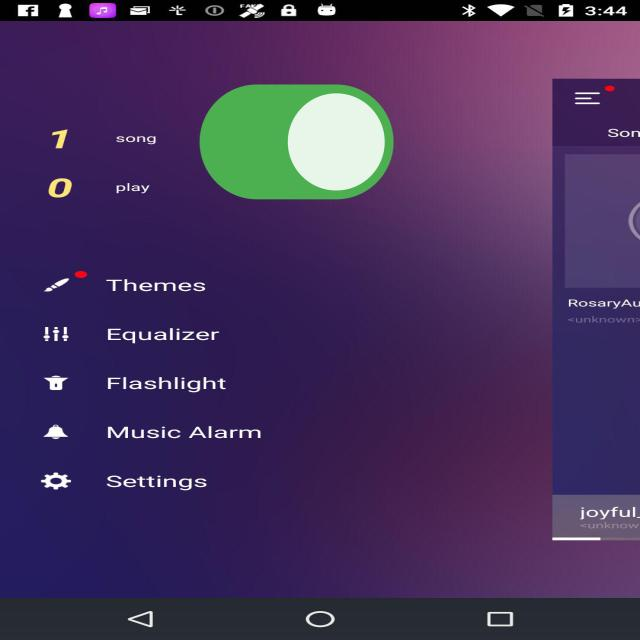social proof: (191, 41, 402, 252)
